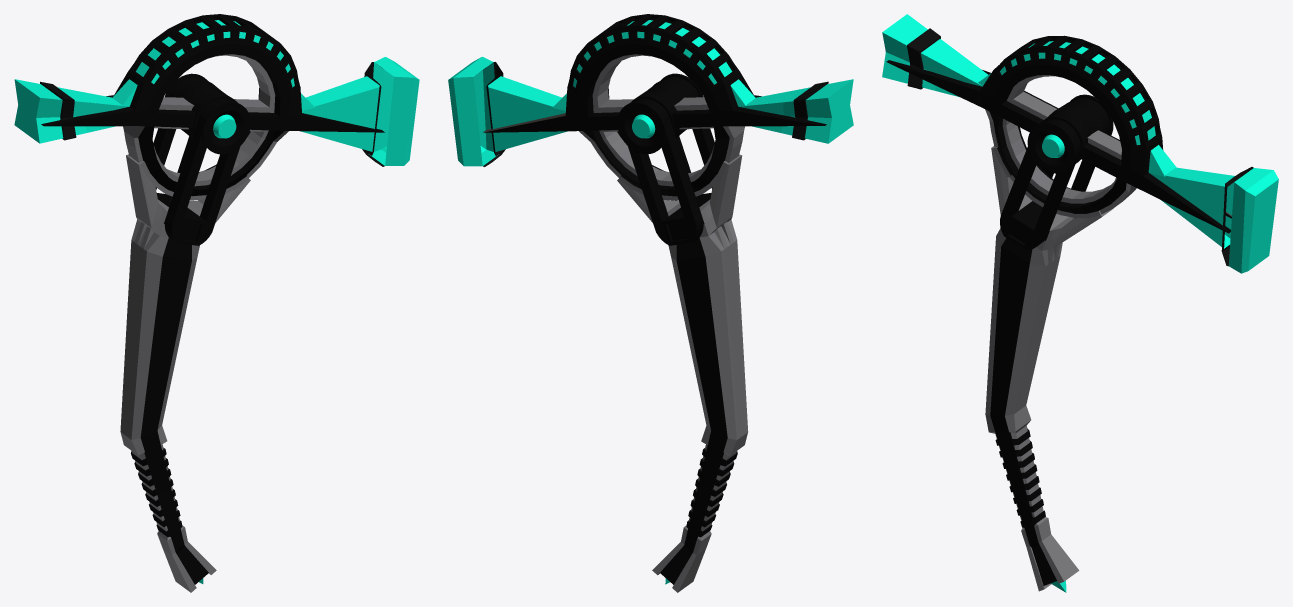
The model's file is hammer 4 Fagerone.fbx.
3 renders of one model, left to right at view 1: azimuth 30°, elevation 25°; view 2: azimuth 150°, elevation 25°; view 3: azimuth 330°, elevation 25°, orthographic. The views are drawn at different scales.
Visible parts, largest first — view 1: Cylinder.001; view 2: Cylinder.001; view 3: Cylinder.001.
Boxes of the visible parts, bbox=[...] form: Cylinder.001: bbox=[14, 14, 419, 592]; Cylinder.001: bbox=[448, 14, 853, 592]; Cylinder.001: bbox=[882, 14, 1278, 592].
Size of the model in its own units: 319 by 449 by 58.75.
2 materials, 2 textured.
